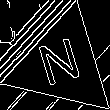N_S: (36, 35, 89, 95)
